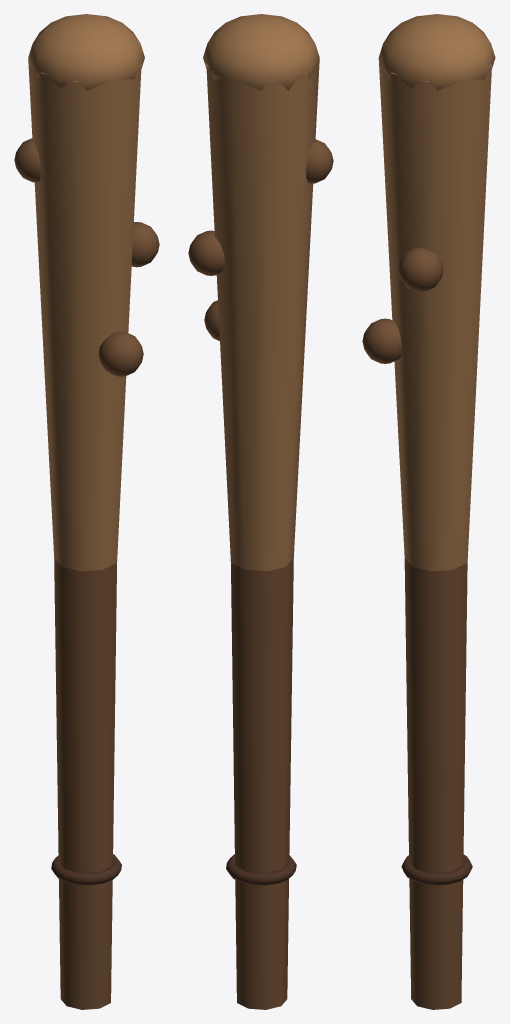
Rendered from club.glb.
The picture shows the model from 3 angles, left to right: view 1: azimuth 30°, elevation 25°; view 2: azimuth 210°, elevation 25°; view 3: azimuth 270°, elevation 25°; orthographic projection.
Visible parts, largest first — view 1: club-head, club-handle, club-head-knot, club-head-burl (×3), club-grip-binding; view 2: club-head, club-handle, club-head-knot, club-head-burl (×3), club-grip-binding; view 3: club-head, club-handle, club-head-knot, club-head-burl (×2), club-grip-binding.
Boxes of the visible parts, left/top/right/bottom form: club-head: left=28, top=58, right=141, bottom=571; club-handle: left=54, top=558, right=116, bottom=1009; club-head-knot: left=28, top=14, right=144, bottom=90; club-head-burl (×3): left=14, top=138, right=159, bottom=376; club-grip-binding: left=51, top=854, right=121, bottom=885; club-head: left=206, top=58, right=319, bottom=571; club-handle: left=231, top=558, right=293, bottom=1009; club-head-knot: left=203, top=14, right=319, bottom=90; club-head-burl (×3): left=188, top=139, right=333, bottom=340; club-grip-binding: left=226, top=854, right=296, bottom=885; club-head: left=378, top=58, right=491, bottom=571; club-handle: left=404, top=558, right=467, bottom=1009; club-head-knot: left=378, top=14, right=495, bottom=90; club-head-burl (×2): left=362, top=247, right=443, bottom=363; club-grip-binding: left=401, top=854, right=472, bottom=885.
Size of the model in its own units: 0.0653 by 0.5174 by 0.0638.
